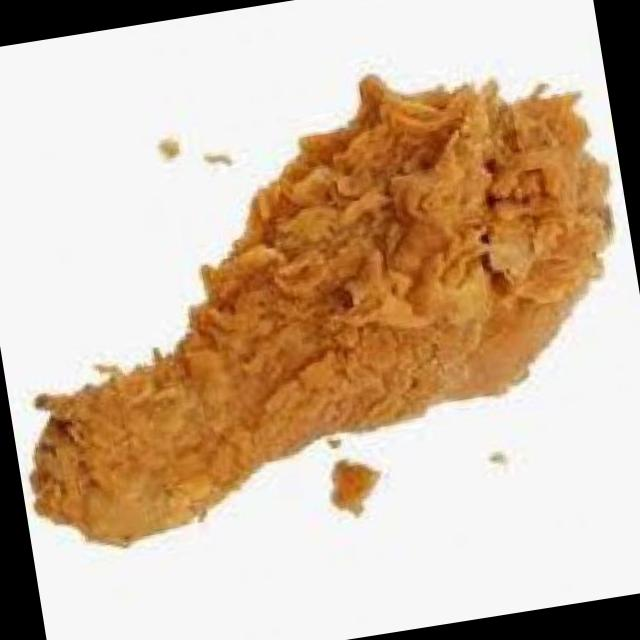Fried Chicken: (32, 75, 614, 548)
